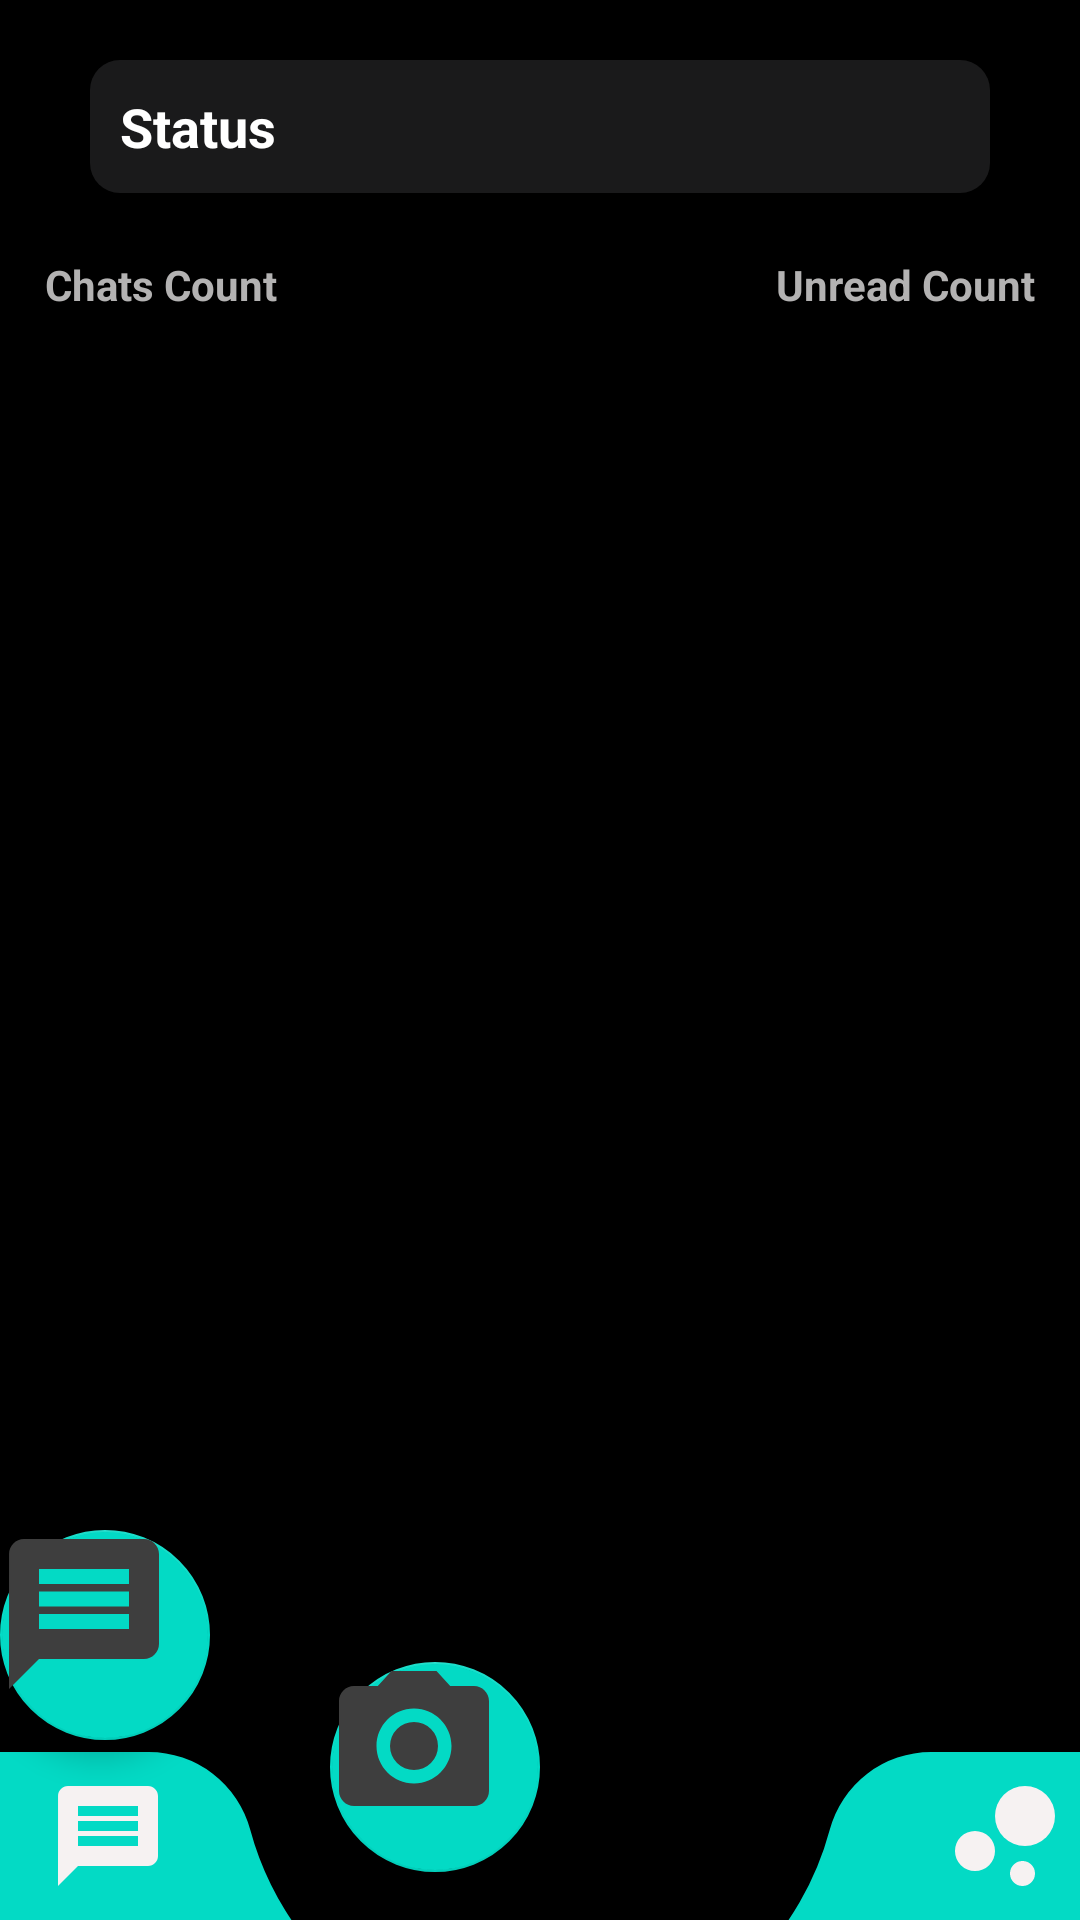

Where to tap for icons on this 1080px×1920px app screen, as point (x, y):
bubble chart: point (1005, 1836)
camera: point (435, 1767)
message: point (105, 1635), point (108, 1836)
